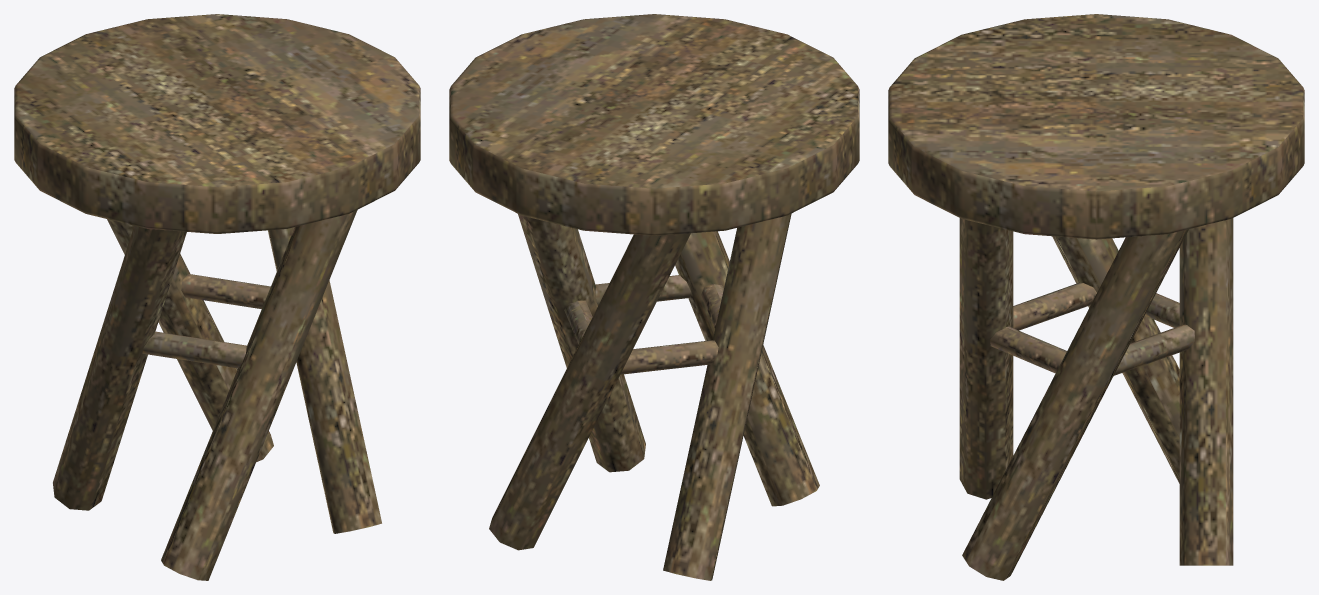
Rendered from stool.fbx.
3 renders of one model, left to right at view 1: azimuth 30°, elevation 25°; view 2: azimuth 150°, elevation 25°; view 3: azimuth 270°, elevation 25°, orthographic. The views are drawn at different scales.
Visible parts, largest first — view 1: stool; view 2: stool; view 3: stool.
Part boxes in pixels (bbox=[...]): stool: bbox=[14, 14, 420, 580]; stool: bbox=[449, 14, 859, 580]; stool: bbox=[888, 14, 1304, 580].
Bounding box in the file's own units: 0.4779 × 0.5369 × 0.4707.
Materials: 1 (1 with a texture image).
